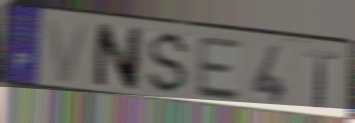4: (250, 43, 288, 107)
E: (193, 34, 243, 103)
N: (92, 21, 145, 93)
S: (144, 30, 193, 97)
T: (304, 48, 340, 111)
V: (44, 17, 93, 85)
